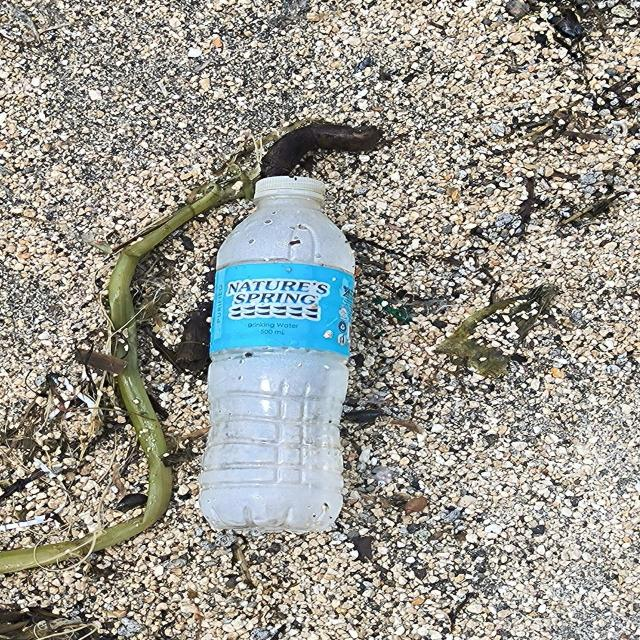plastic_waste: (199, 176, 359, 537)
